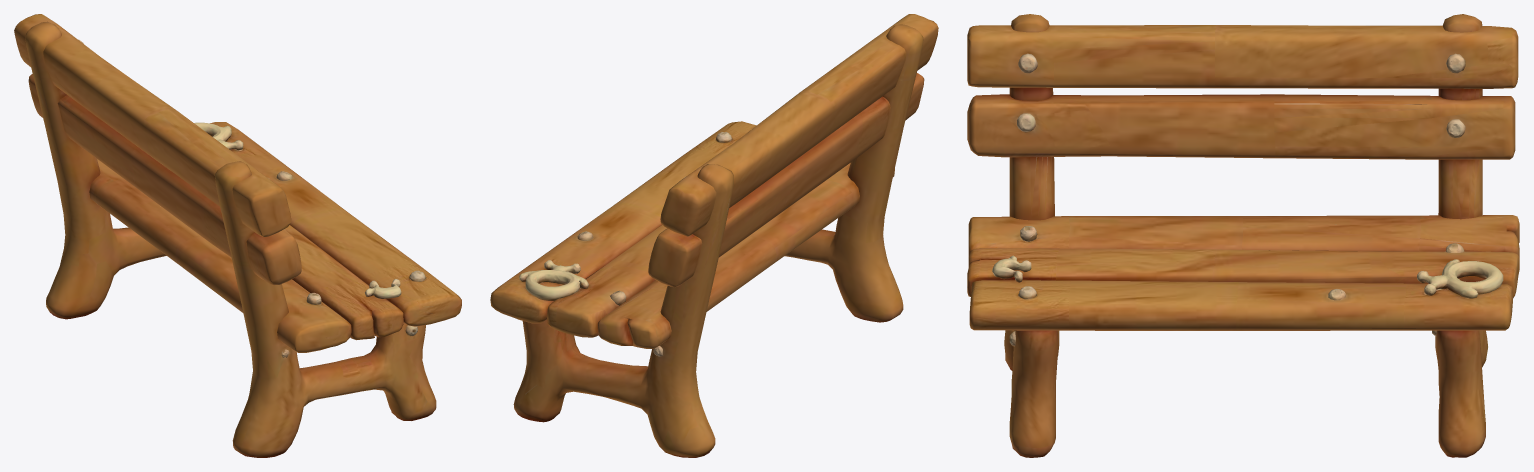
Rendered from bench.glb.
The picture shows the model from 3 angles, left to right: view 1: azimuth 30°, elevation 25°; view 2: azimuth 150°, elevation 25°; view 3: azimuth 270°, elevation 25°; orthographic projection. The views are drawn at different scales.
Visible parts, largest first — view 1: tripo_node_8e0fab83-19a2-475d-849f-03f4ad54bf0b; view 2: tripo_node_8e0fab83-19a2-475d-849f-03f4ad54bf0b; view 3: tripo_node_8e0fab83-19a2-475d-849f-03f4ad54bf0b.
Boxes of the visible parts, bbox=[...] form: tripo_node_8e0fab83-19a2-475d-849f-03f4ad54bf0b: bbox=[14, 14, 461, 457]; tripo_node_8e0fab83-19a2-475d-849f-03f4ad54bf0b: bbox=[490, 14, 938, 457]; tripo_node_8e0fab83-19a2-475d-849f-03f4ad54bf0b: bbox=[967, 14, 1519, 457].
Size of the model in its own units: 0.5293 by 0.6699 by 0.998.
1 material, 1 textured.
